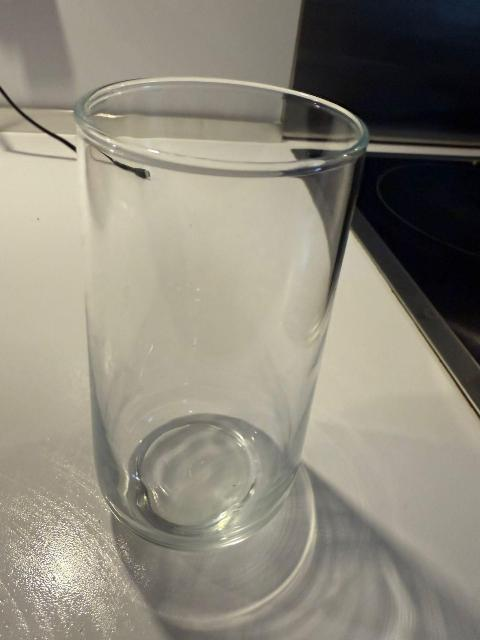Cam: (65, 73, 363, 547)
